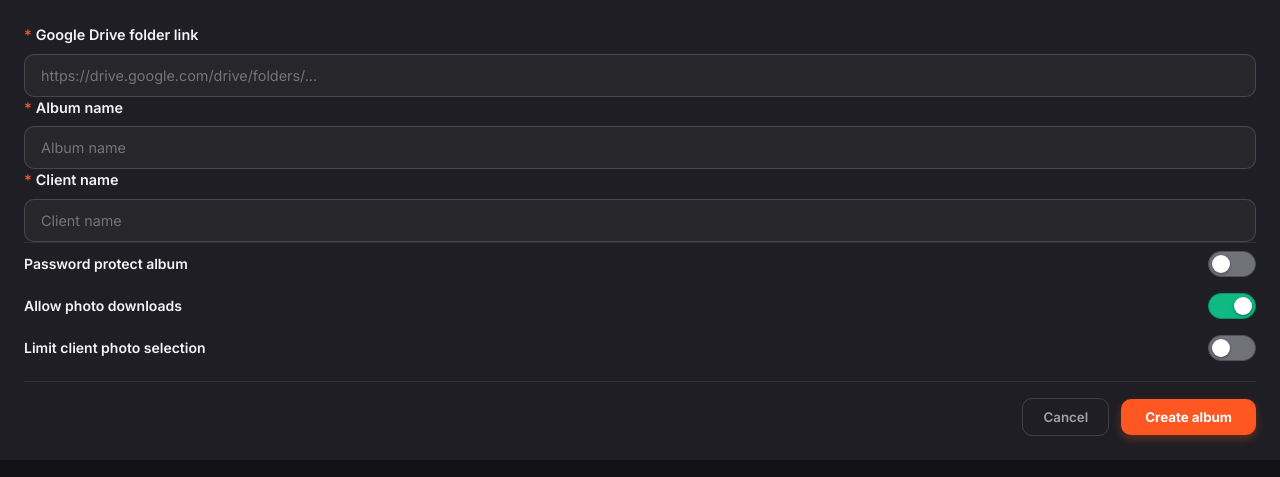
Test: CreateAlbumForm › disables all form inputs, toggles, and buttons while submitting
The image size is (1280, 477).
Type "https://drive.google.com/drive/folders/456DEF" into the field labelled "Google Drive folder link" at (640, 75), box [24,54,1256,97]
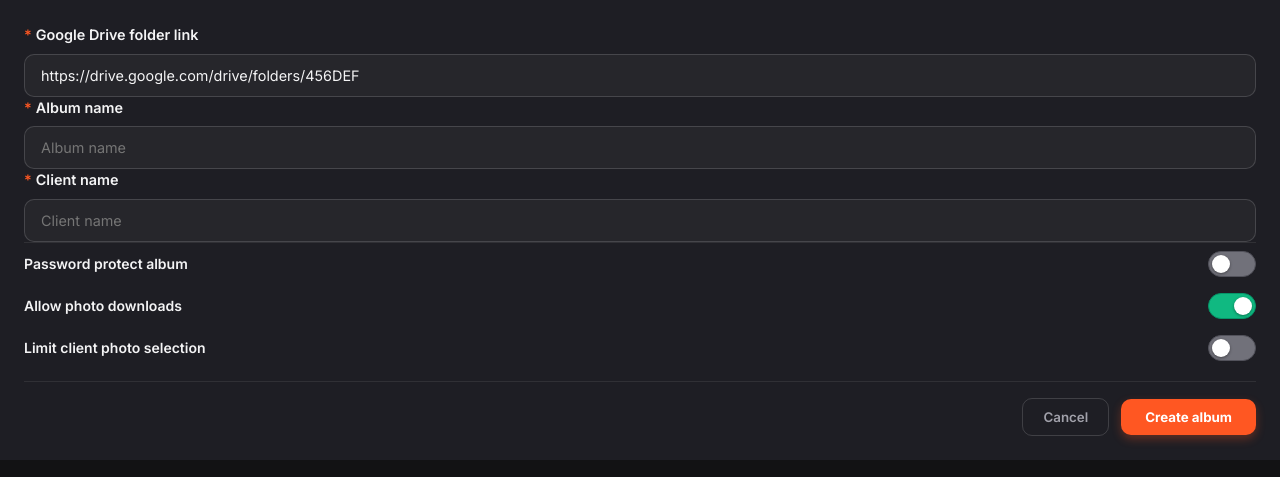
Click the button "Create album" at (1189, 417), box [1121,399,1256,435]
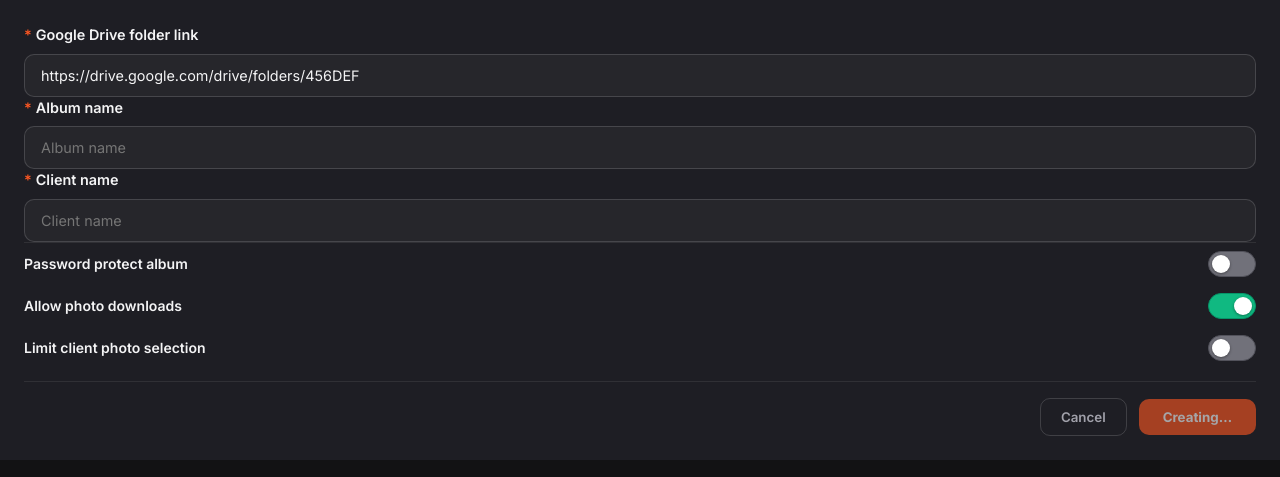
expect the field labelled "Google Drive folder link" is disabled: met, box [24,54,1256,97]
expect the button with aria-label "create album" is disabled: met, box [1139,399,1256,435]
expect the button "Cancel" is disabled: met, box [1040,398,1127,436]
